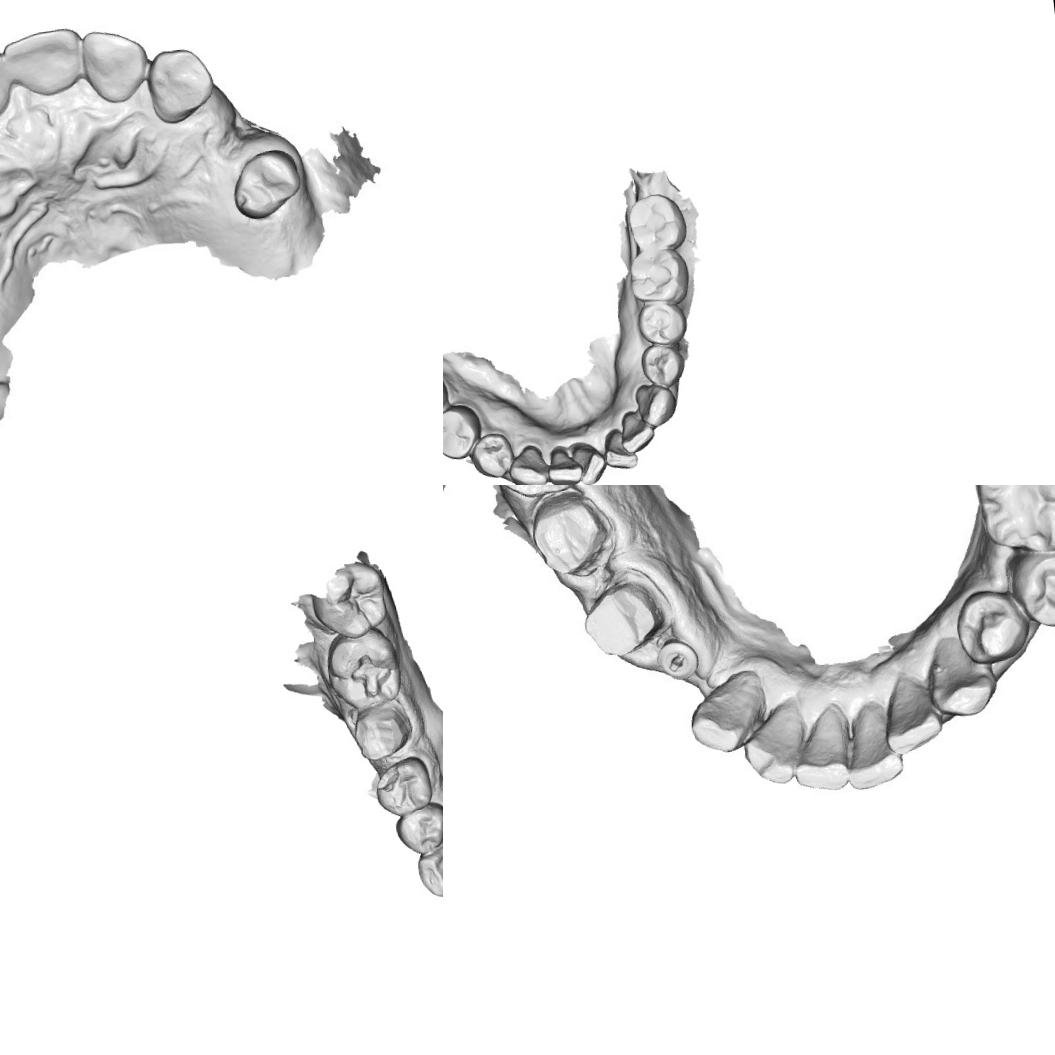canine: (924, 630, 1000, 722), (690, 668, 769, 751), (144, 44, 218, 126), (633, 380, 680, 430), (504, 441, 553, 485), (412, 832, 443, 900)
crown: (523, 485, 619, 585), (576, 574, 667, 662), (348, 698, 418, 764)
implant_minus: (648, 632, 710, 694)
incisor: (742, 686, 814, 786), (0, 24, 87, 100), (790, 694, 856, 791), (78, 24, 152, 108), (838, 700, 906, 786), (882, 670, 948, 753), (616, 408, 656, 456), (599, 426, 639, 474), (570, 437, 608, 485), (544, 443, 585, 485)
inlay: (346, 647, 397, 702)
molar: (307, 560, 392, 644), (973, 485, 1055, 562), (622, 190, 690, 254), (624, 246, 692, 308)
premolar: (954, 586, 1032, 667), (226, 146, 306, 224), (370, 754, 437, 820), (1010, 541, 1055, 627), (392, 800, 443, 857), (443, 400, 486, 463), (634, 298, 688, 348), (466, 430, 516, 482), (637, 341, 686, 391)
